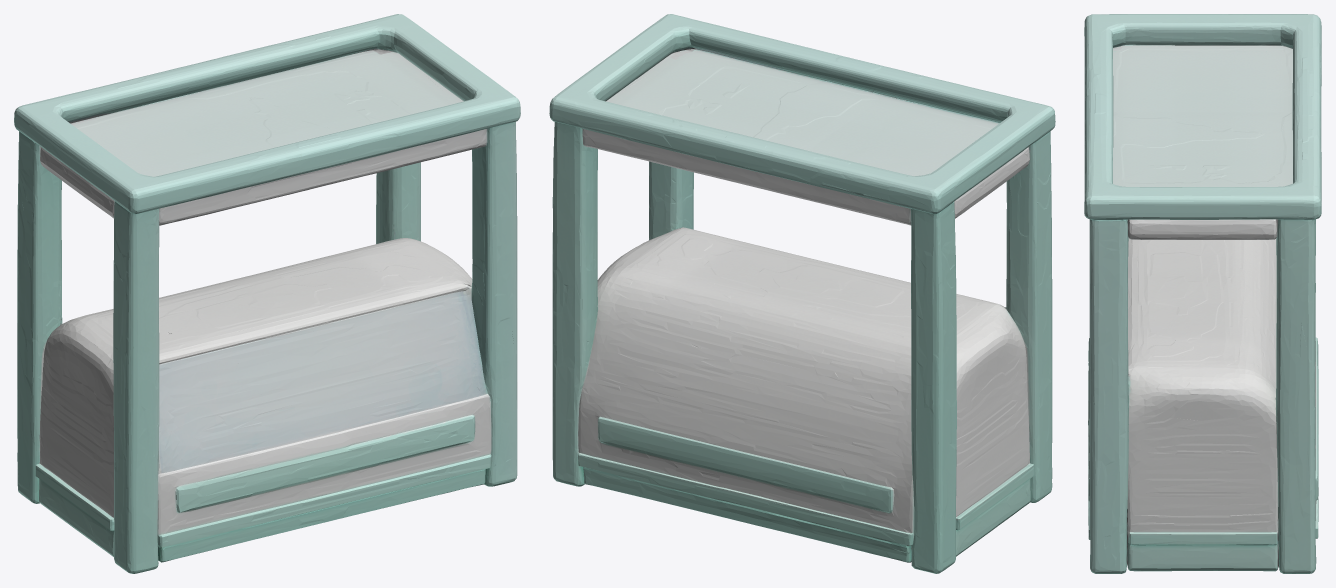
Rendered from COMMON_사물_display_stand.glb.
3 renders of one model, left to right at view 1: azimuth 30°, elevation 25°; view 2: azimuth 150°, elevation 25°; view 3: azimuth 270°, elevation 25°, orthographic. The views are drawn at different scales.
Parts seen in each view (by area): view 1: world; view 2: world; view 3: world.
Boxes of the visible parts, x1,y1,x2,y2 form: world: (14,14,520,573); world: (549,14,1055,573); world: (1084,14,1321,573).
Size of the model in its own units: 1 by 0.9445 by 0.5374.
Materials: 1 (1 with a texture image).
